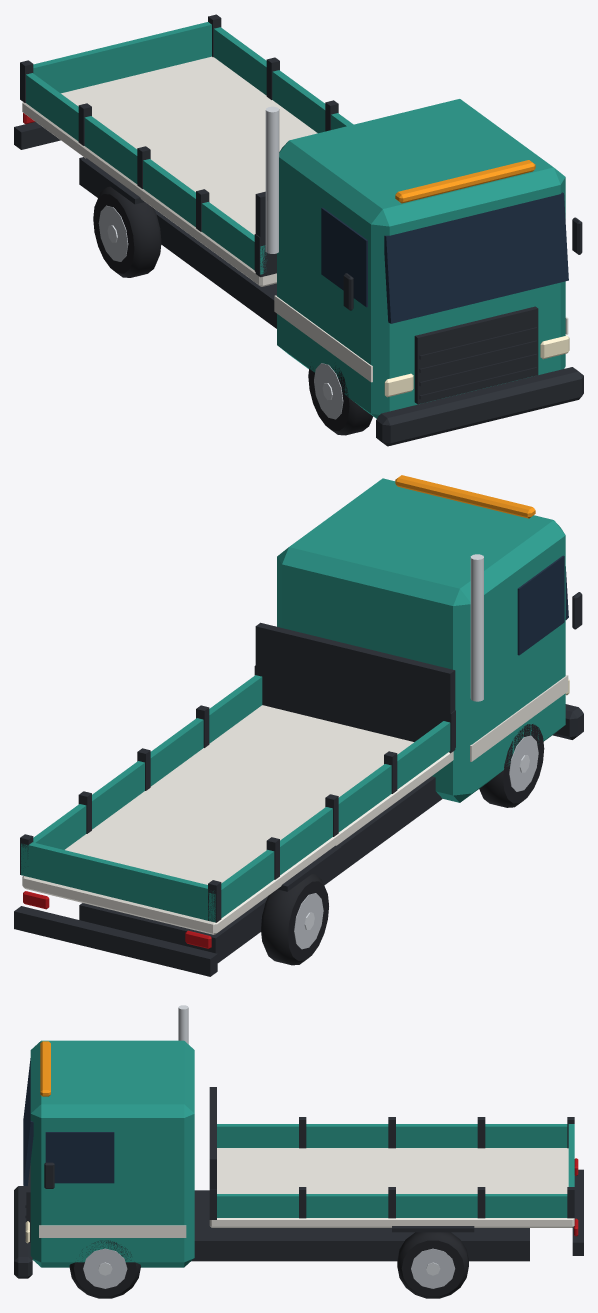
File: truck.glb
3 views of the same model, one above another, from view 1: azimuth 30°, elevation 25°; view 2: azimuth 150°, elevation 25°; view 3: azimuth 270°, elevation 25° (orthographic). The views are drawn at different scales.
Visible parts, largest first — view 1: body, wheel_RR, wheel_FR; view 2: body, wheel_RR, wheel_FR; view 3: body, wheel_RL, wheel_FL.
Boxes of the visible parts, bbox=[...] form: body: bbox=[14, 14, 583, 446]; wheel_RR: bbox=[93, 186, 161, 277]; wheel_FR: bbox=[308, 363, 373, 435]; body: bbox=[14, 475, 583, 976]; wheel_RR: bbox=[261, 873, 328, 965]; wheel_FR: bbox=[479, 724, 544, 807]; body: bbox=[14, 1005, 583, 1278]; wheel_RL: bbox=[397, 1232, 468, 1298]; wheel_FL: bbox=[69, 1240, 140, 1298].
Size of the model in its own units: 2.76 by 3.24 by 7.65.
